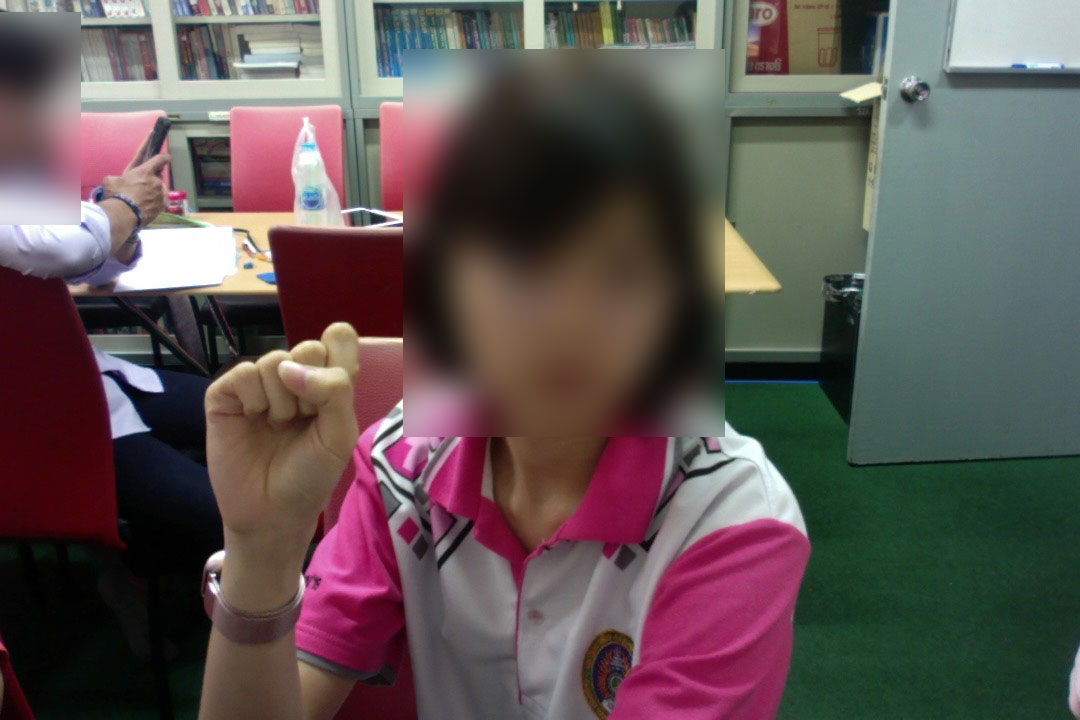sor: (194, 314, 370, 565)
